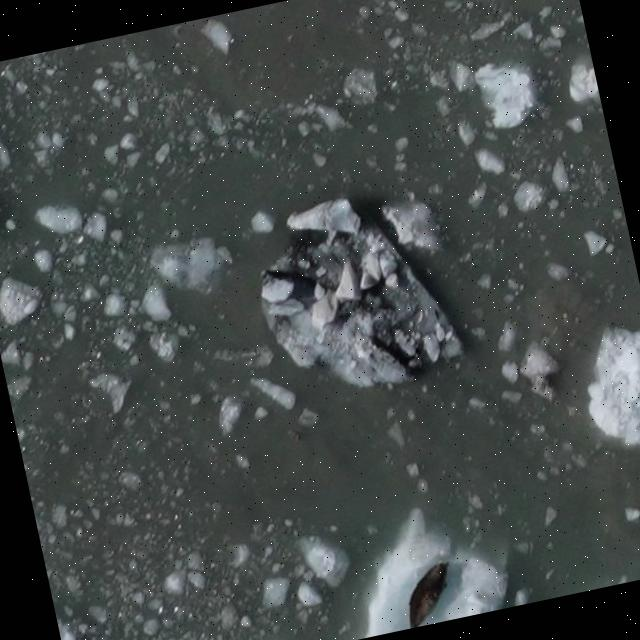seal: (394, 551, 461, 634)
